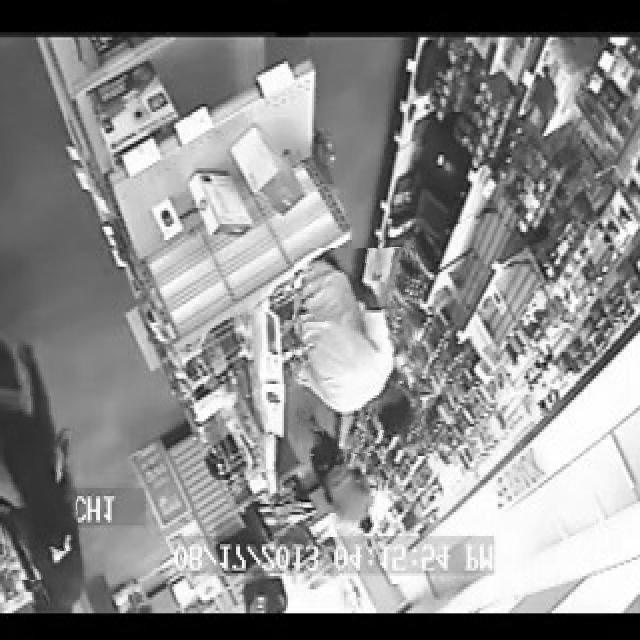Normal: (294, 248, 419, 454), (0, 309, 77, 580), (301, 410, 377, 544)
